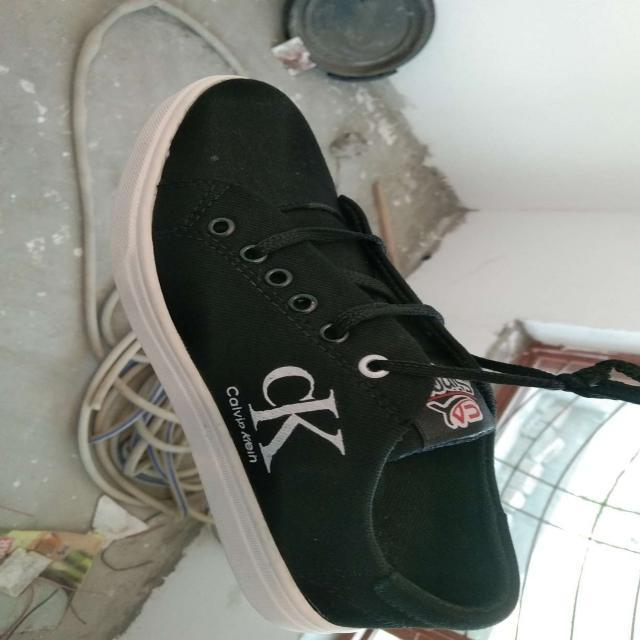shoe: (106, 73, 522, 631)
